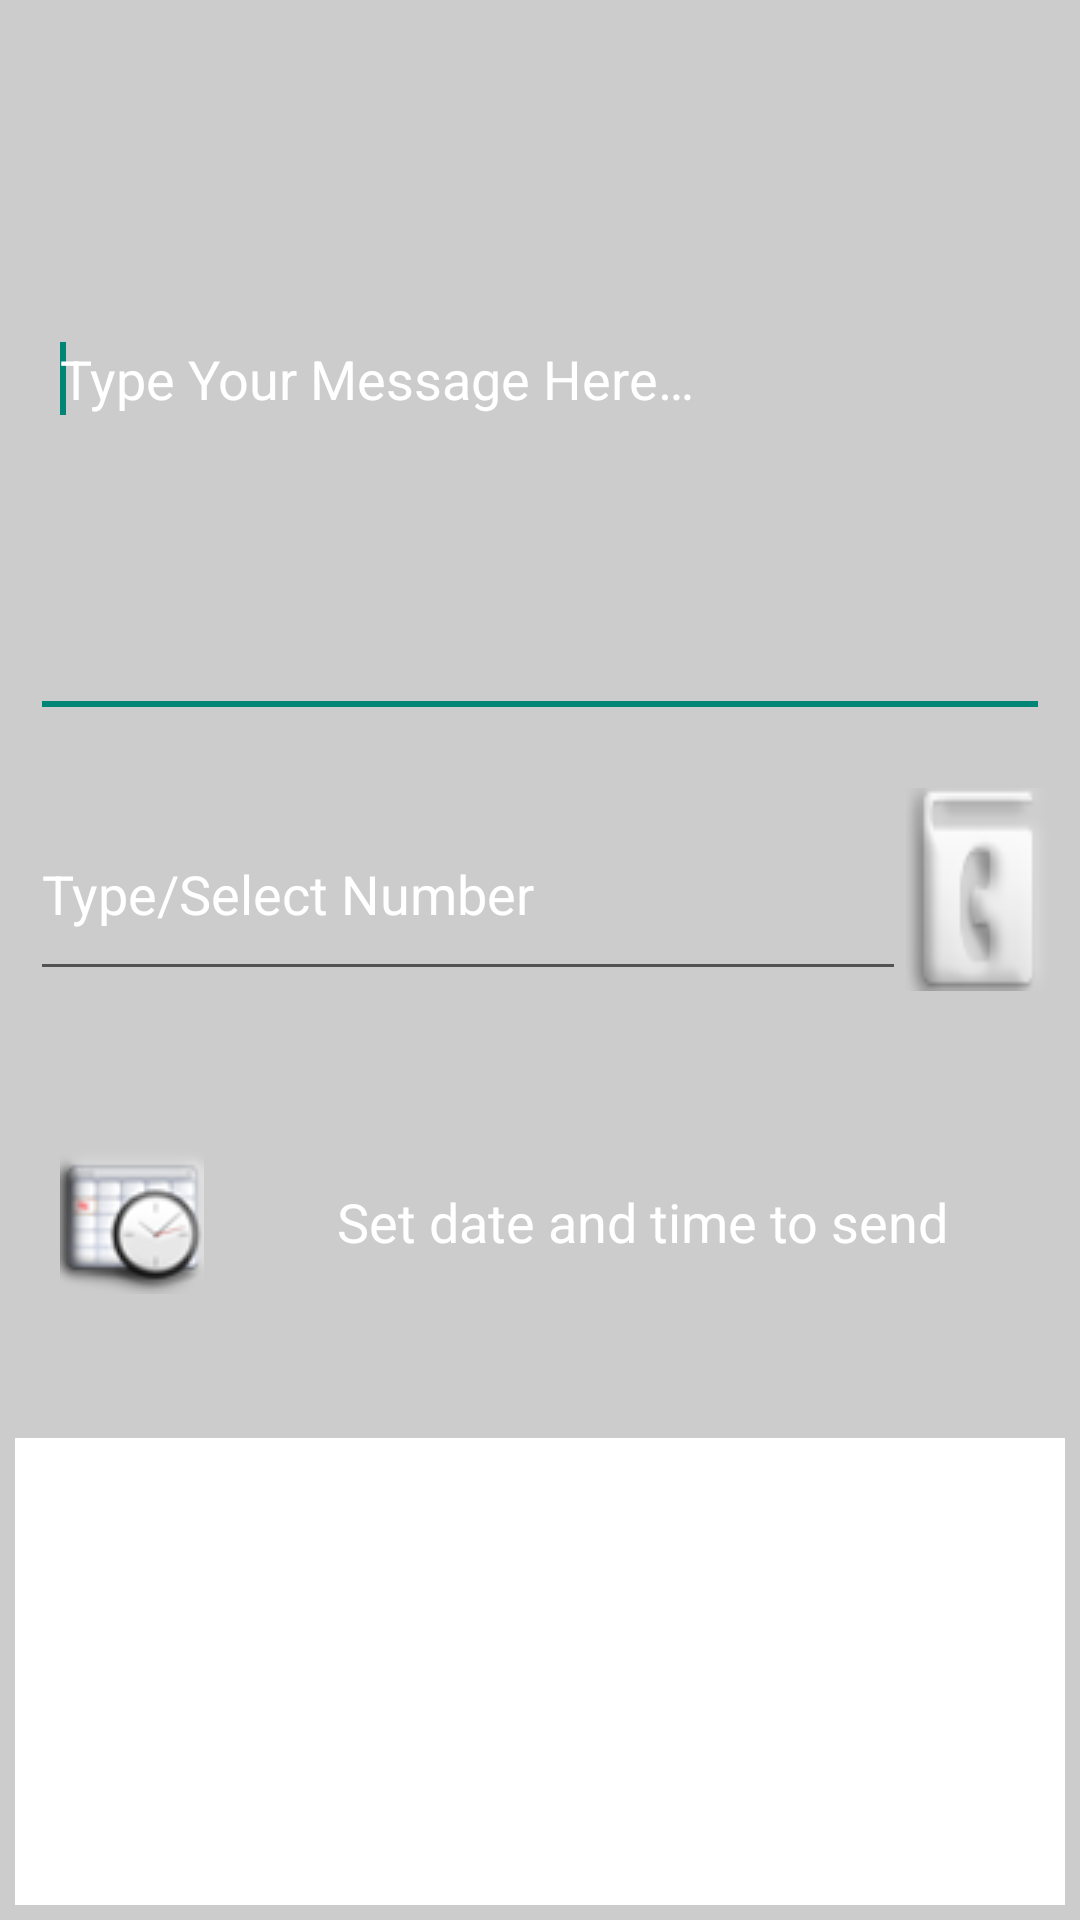

Named icons in this screenshot (1080 × 1920) and their centers, point (x, y):
Phonebook: point (972, 891)
